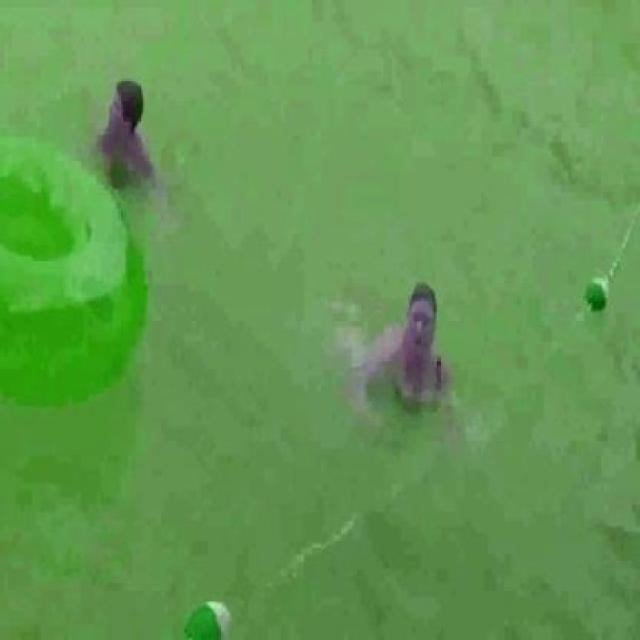drowning: (367, 268, 462, 443), (86, 68, 160, 204)
